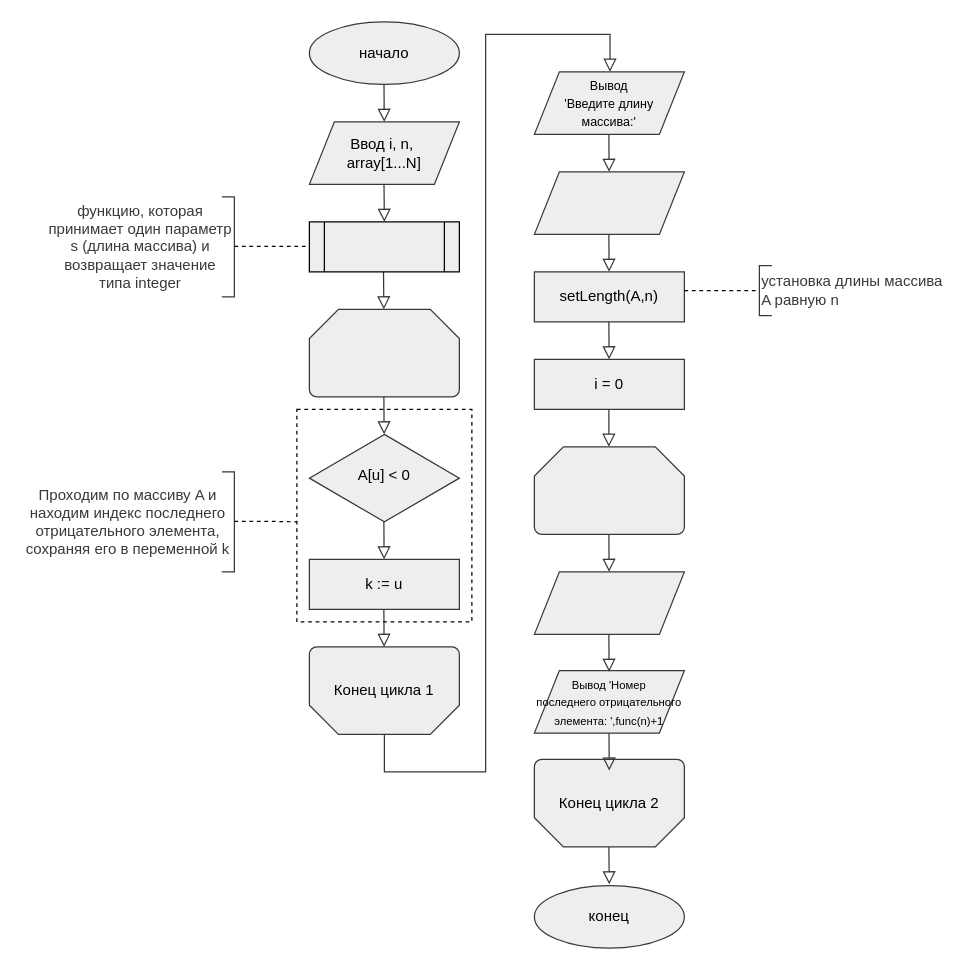
This 968x970 diagram has some shape labels left out. Here are the shapes that lost their labels. From the top down, the centre of each, then its label:
point 608,202: Ввод n
point 383,246: функция func(s:integer): integer
point 383,352: Начало цикла 1 u > s-1
point 608,490: Начало цикла 2 i > n-1
point 608,602: Считываем элементы массива A
